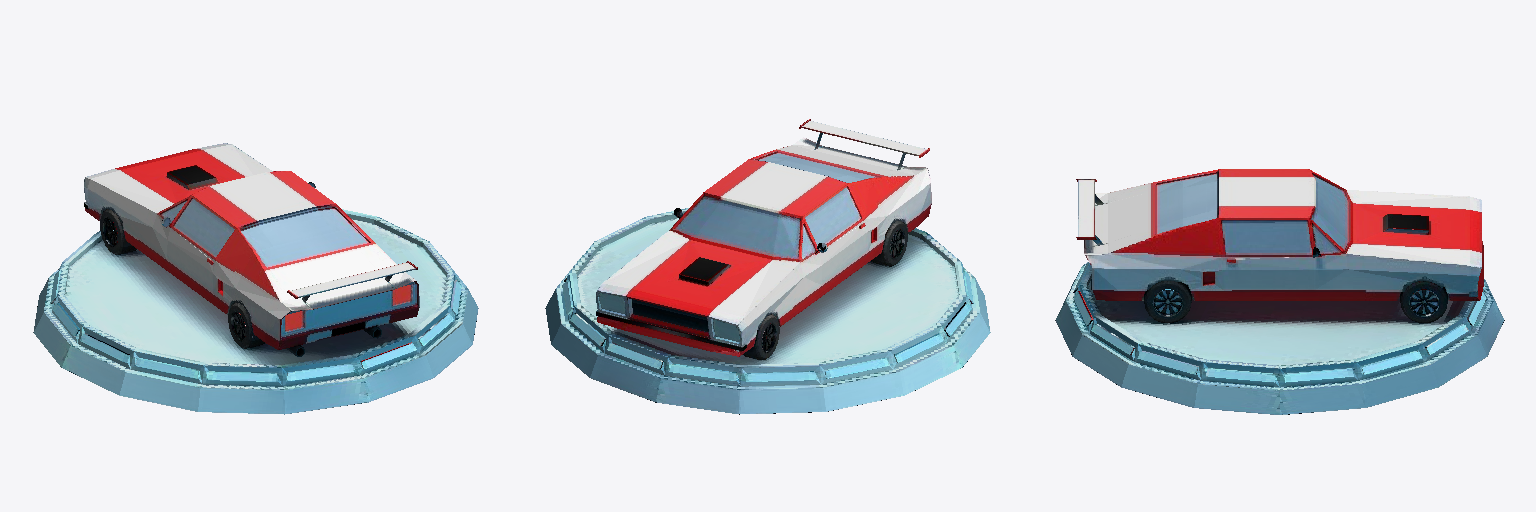
3 renders of one model, left to right at view 1: azimuth 30°, elevation 25°; view 2: azimuth 150°, elevation 25°; view 3: azimuth 270°, elevation 25°, orthographic.
Visible parts, largest first — view 1: Cube.002; view 2: Cube.002; view 3: Cube.002.
Part boxes in pixels (x1,y1,x2,y2): Cube.002: (33, 143, 478, 414); Cube.002: (545, 119, 990, 414); Cube.002: (1055, 169, 1504, 414).
Size of the model in its own units: 5.26 by 1.67 by 5.26.
1 materials, 1 textured.